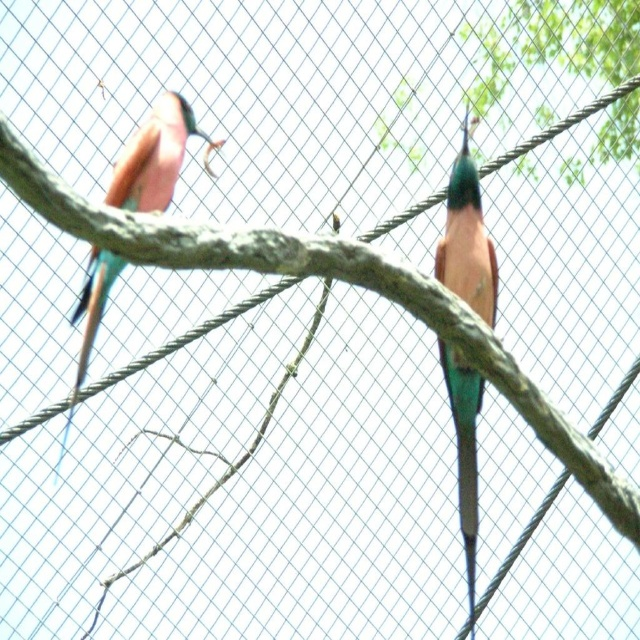Parrot: (50, 84, 214, 477), (437, 96, 500, 637)
